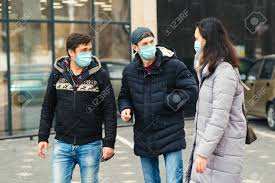with-mask: (188, 16, 230, 63), (129, 23, 160, 65), (64, 32, 99, 69)
